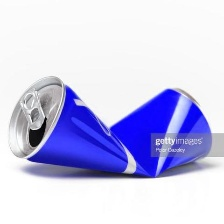can: (5, 73, 216, 181)
